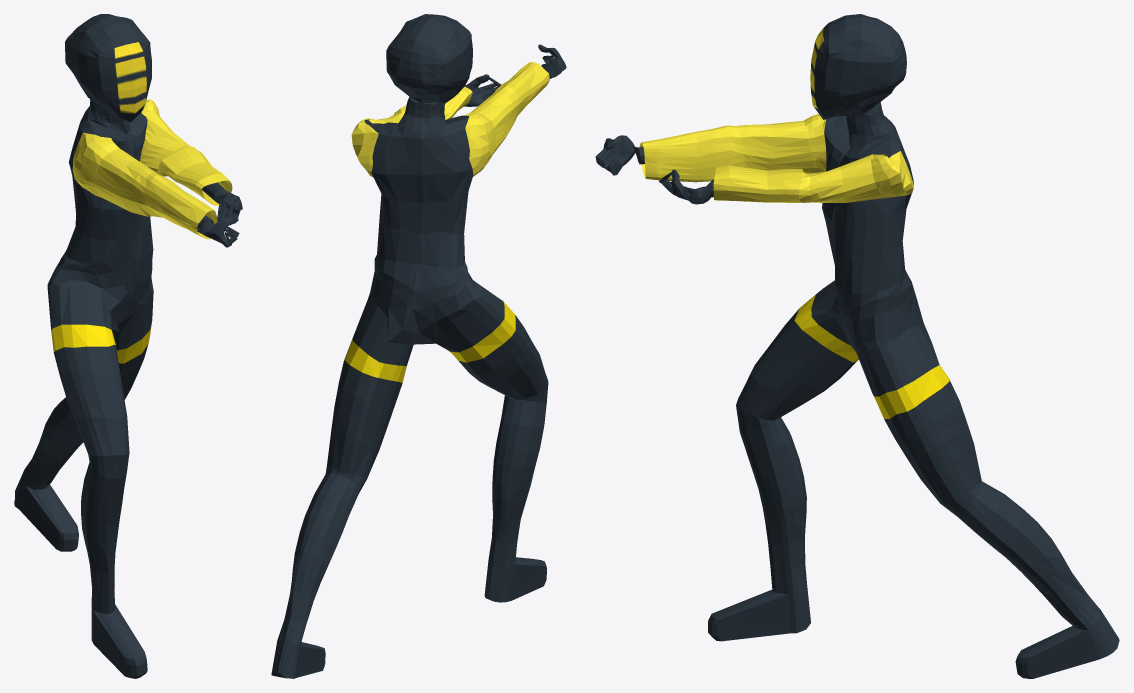
The model's file is Sentry_Attack_000026.obj.
3 renders of one model, left to right at view 1: azimuth 30°, elevation 25°; view 2: azimuth 150°, elevation 25°; view 3: azimuth 270°, elevation 25°, orthographic. The views are drawn at different scales.
Visible parts, largest first — view 1: Cube; view 2: Cube; view 3: Cube.
Boxes of the visible parts, <box> form: Cube: <box>14,14,242,678</box>; Cube: <box>271,14,566,678</box>; Cube: <box>595,14,1119,678</box>.
Bounding box in the file's own units: 0.8833 × 3.74 × 2.77.
